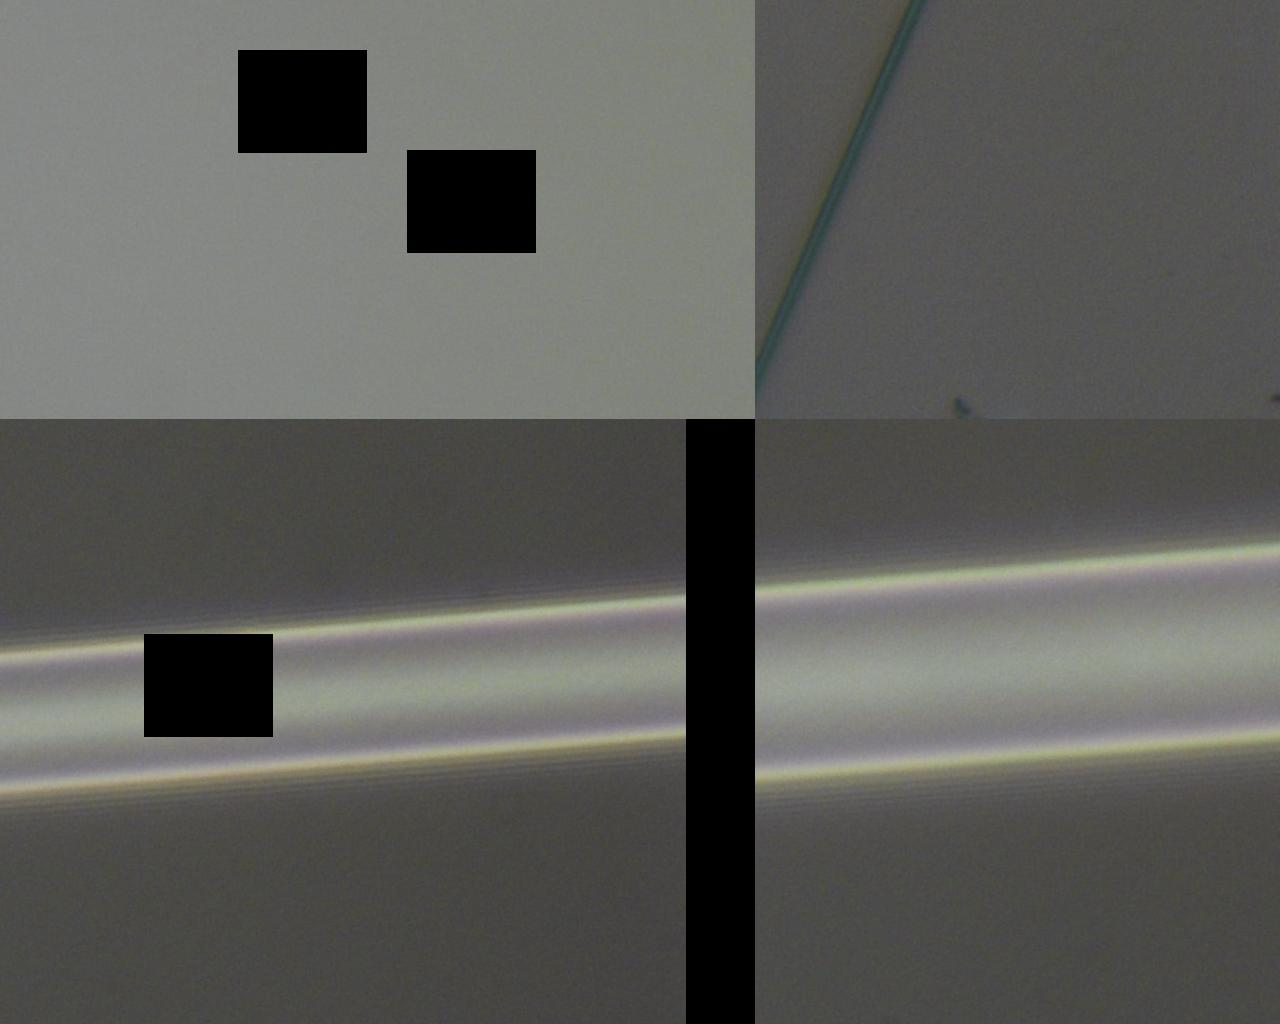fiber: (601, 440, 1280, 871)
